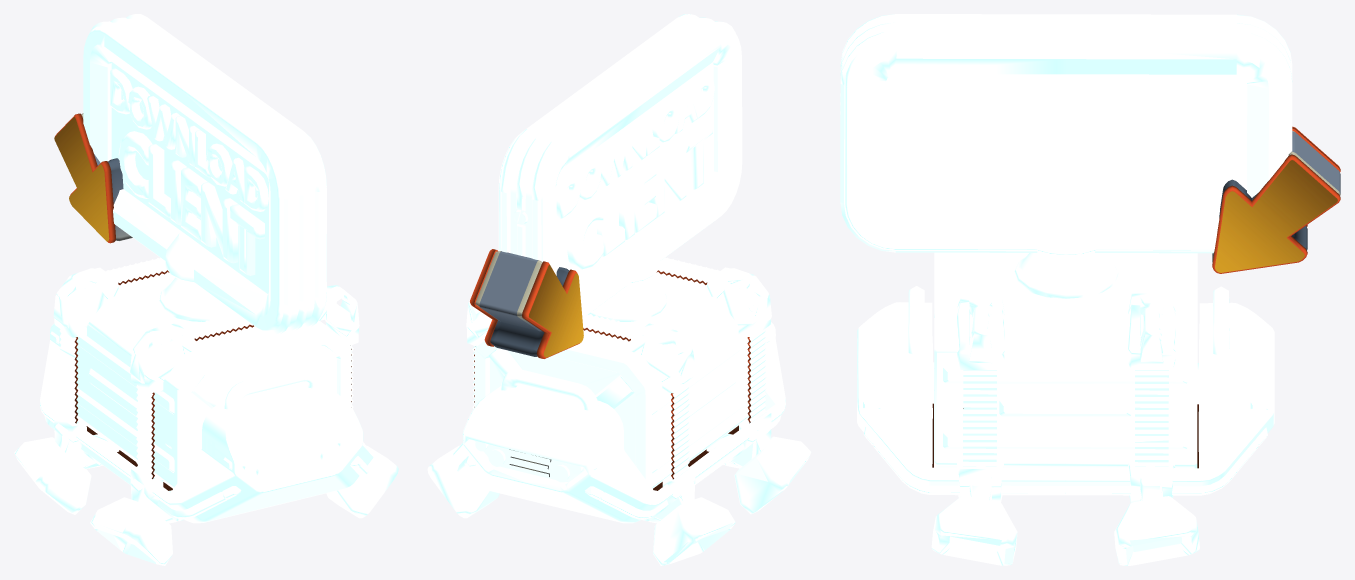
3 views of the same model, side by side, from view 1: azimuth 30°, elevation 25°; view 2: azimuth 150°, elevation 25°; view 3: azimuth 270°, elevation 25° (orthographic). The views are drawn at different scales.
Visible parts, largest first — view 1: border, arrow, Cube.001; view 2: border, arrow, Cube.001; view 3: border, arrow.
Part boxes in pixels (x1,y1,x2,y2): border: (14, 14, 398, 565); arrow: (54, 113, 132, 243); Cube.001: (74, 270, 351, 478); border: (427, 14, 811, 565); arrow: (470, 249, 583, 358); Cube.001: (474, 270, 751, 479); border: (840, 14, 1292, 565); arrow: (1212, 126, 1340, 273).
Bounding box in the file's own units: 3.68 × 5.35 × 5.01.
6 materials, 4 textured.
